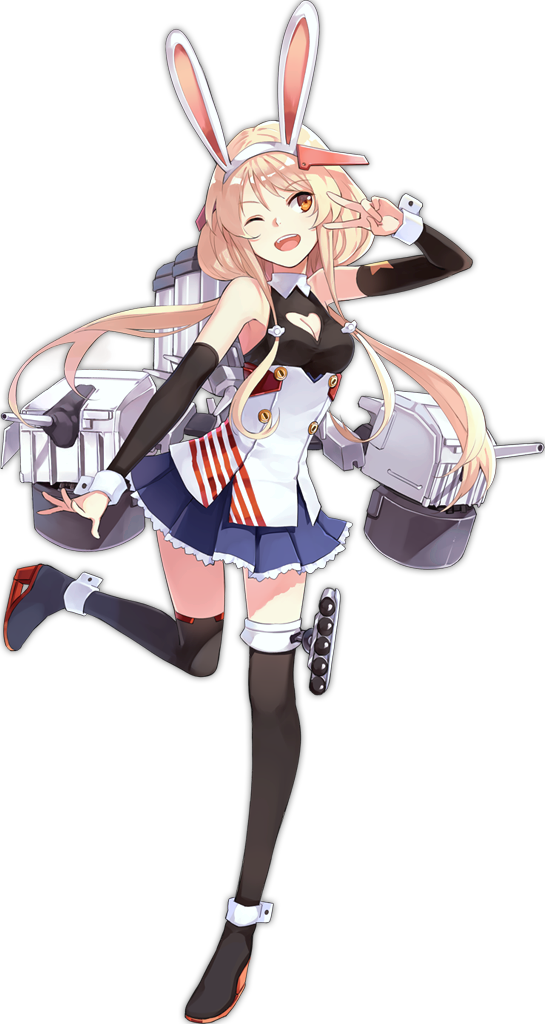person: (64, 120, 431, 849)
